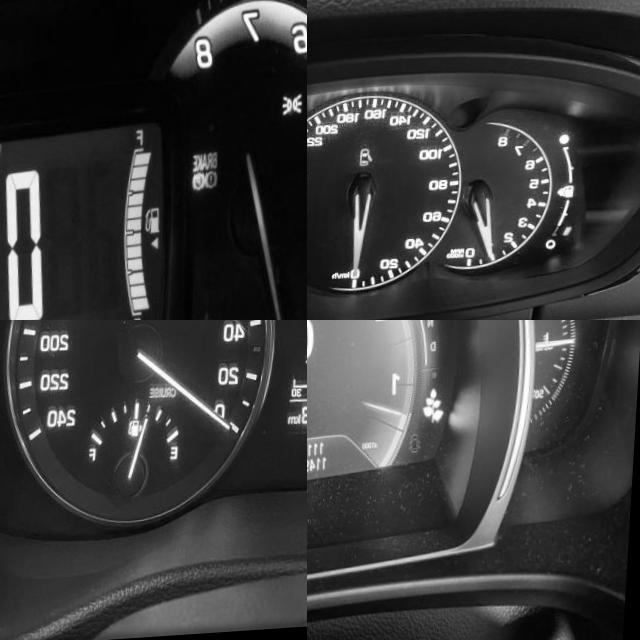Doors: (414, 438, 427, 459), (362, 153, 377, 171)
SideLamp: (285, 99, 307, 122)
